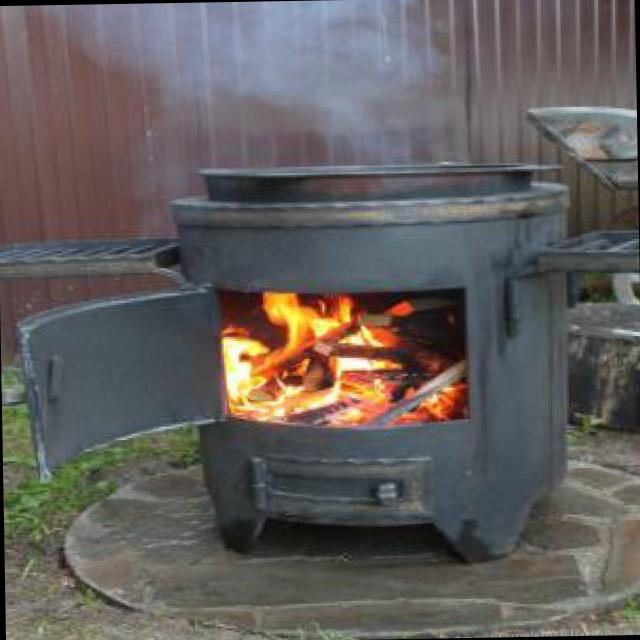fire: (203, 267, 463, 434)
smoke: (45, 0, 461, 167)
